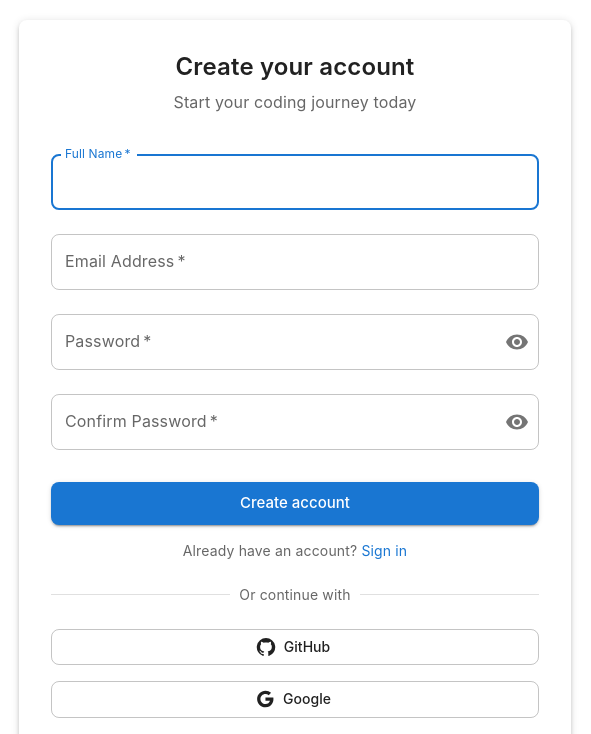
RegisterPage › should show error message on registration failure
The image size is (591, 734).
Step 1. Type "Test User" into the field labelled "Full Name *" → (295, 182), box top-left (51, 154), bottom-right (539, 210)
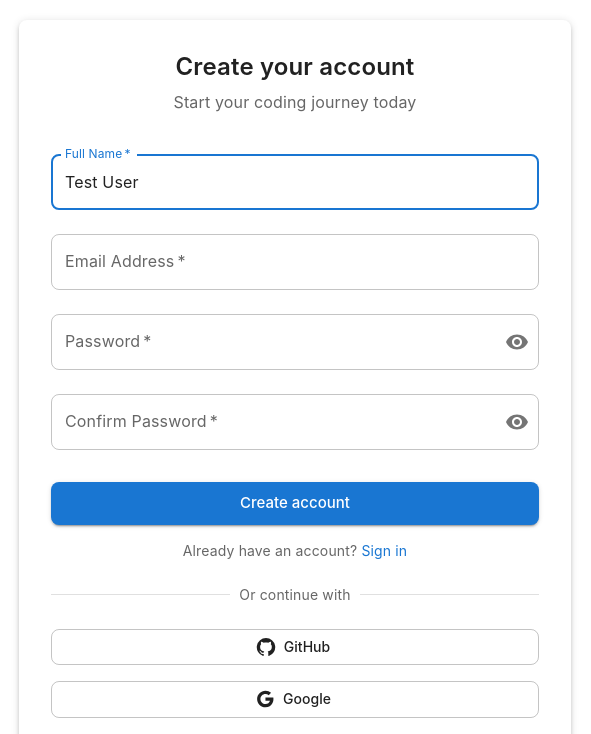
Step 2. Type "test@example.com" into the field labelled "Email Address *" → (295, 262), box top-left (51, 234), bottom-right (539, 290)
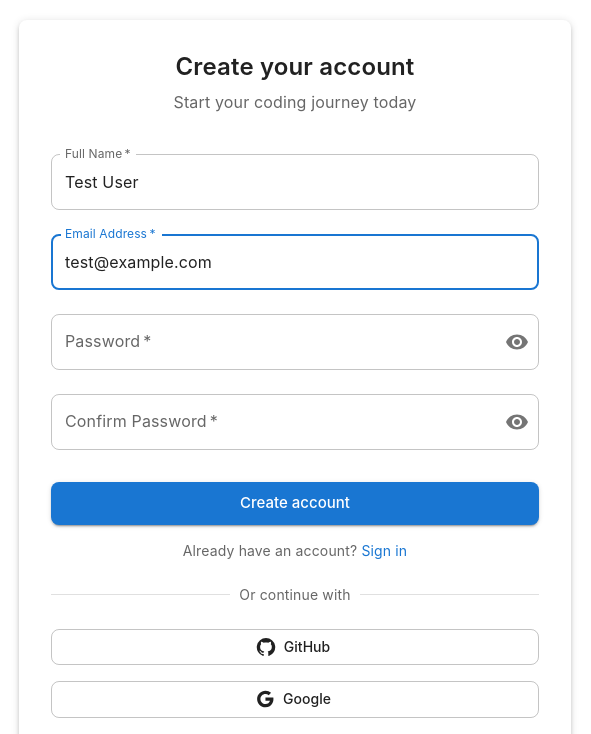
Step 3. Type "ValidPassword123!" into the password field labelled "Password *" → (270, 342), box top-left (51, 314), bottom-right (489, 370)
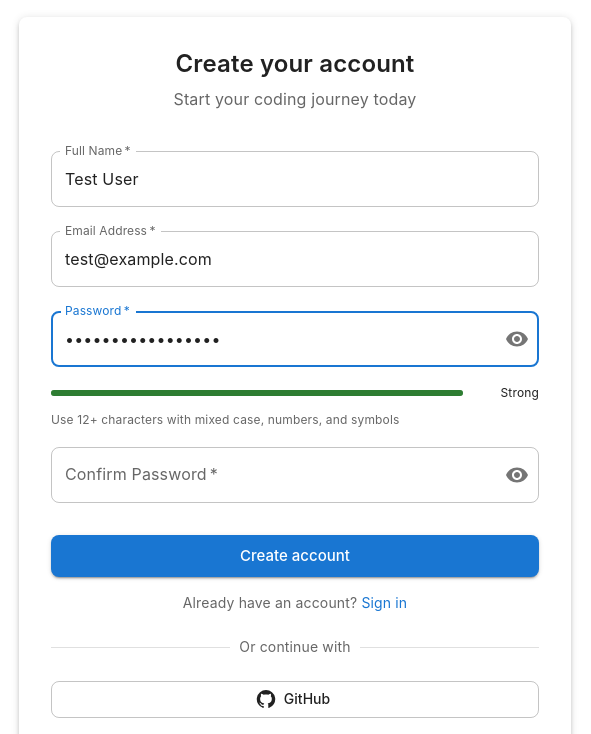
Step 4. Type "ValidPassword123!" into the password field labelled "Confirm Password *" → (270, 475), box top-left (51, 447), bottom-right (489, 503)
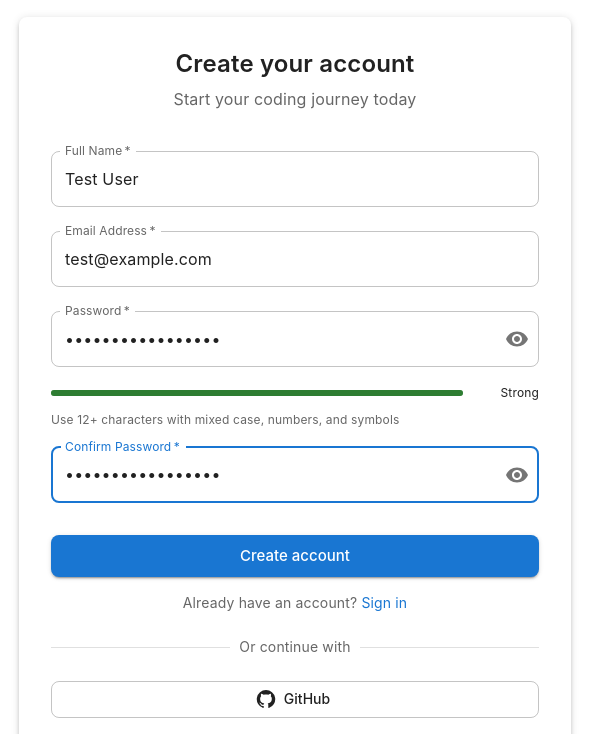
Step 5. Click the button "Create account" → (295, 556), box top-left (51, 535), bottom-right (539, 577)
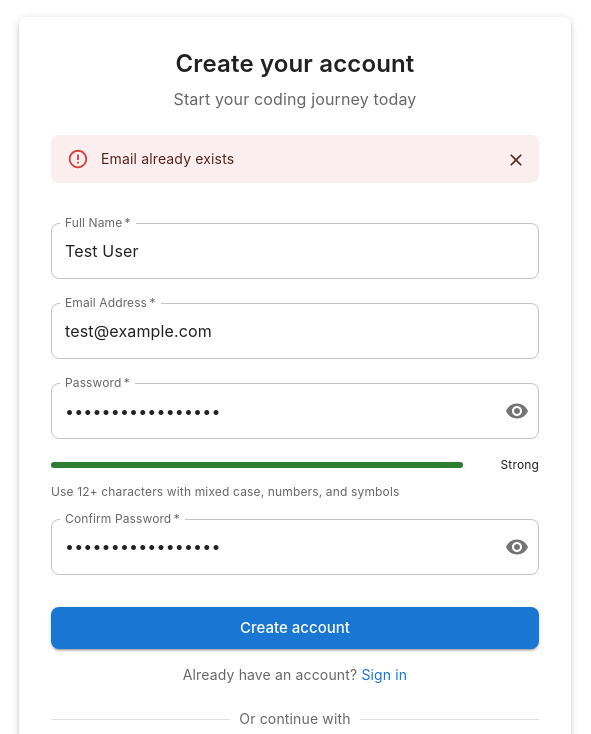
Expected: the text "Email already exists" is shown, top-left (101, 150), bottom-right (234, 167)
